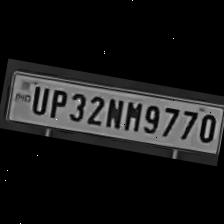0: (192, 109, 219, 145)
2: (82, 91, 106, 127)
3: (64, 87, 87, 122)
7: (156, 102, 181, 138), (174, 105, 198, 141)
9: (138, 99, 162, 134)
M: (119, 96, 143, 132)
N: (102, 93, 124, 129)
P: (44, 84, 68, 119)
U: (26, 80, 50, 116)
